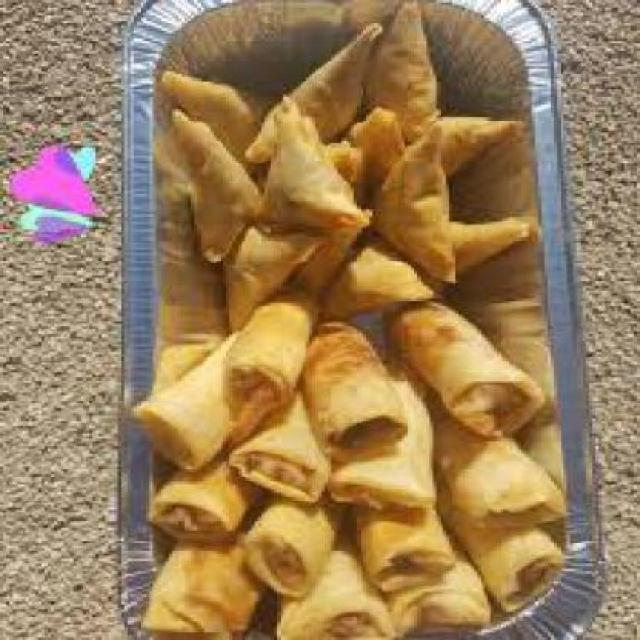spring rolls: (150, 296, 561, 638)
